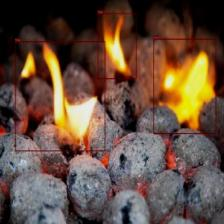fire: (14, 41, 106, 151), (153, 38, 216, 134), (98, 13, 136, 79)
